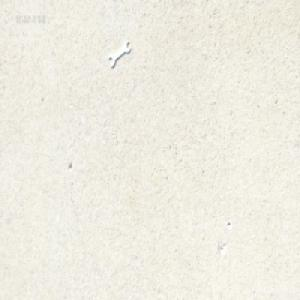Wrench: (108, 38, 130, 67)
